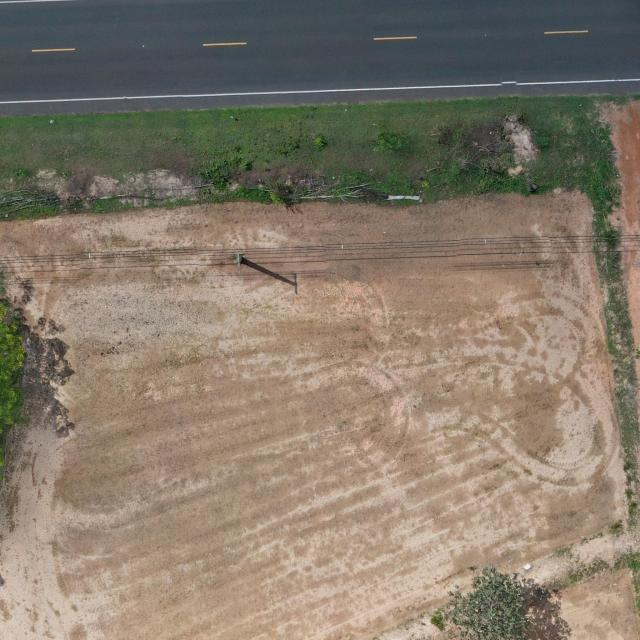Tree: (430, 564, 532, 640)
